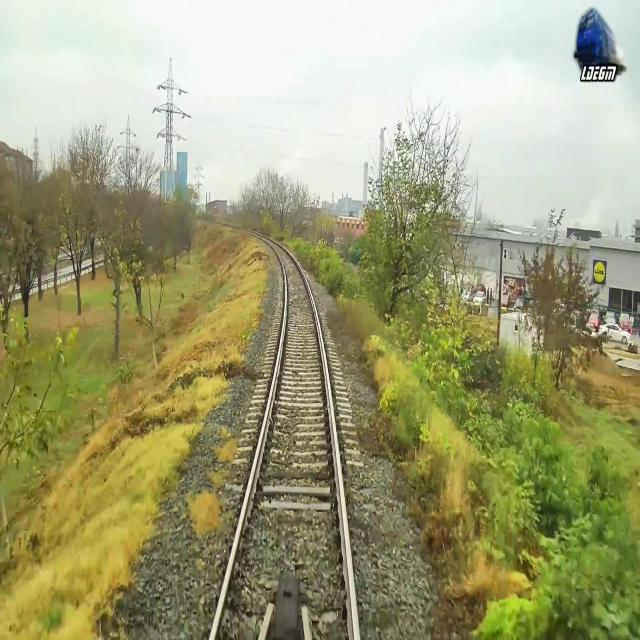rail-track: (213, 236, 354, 639)
